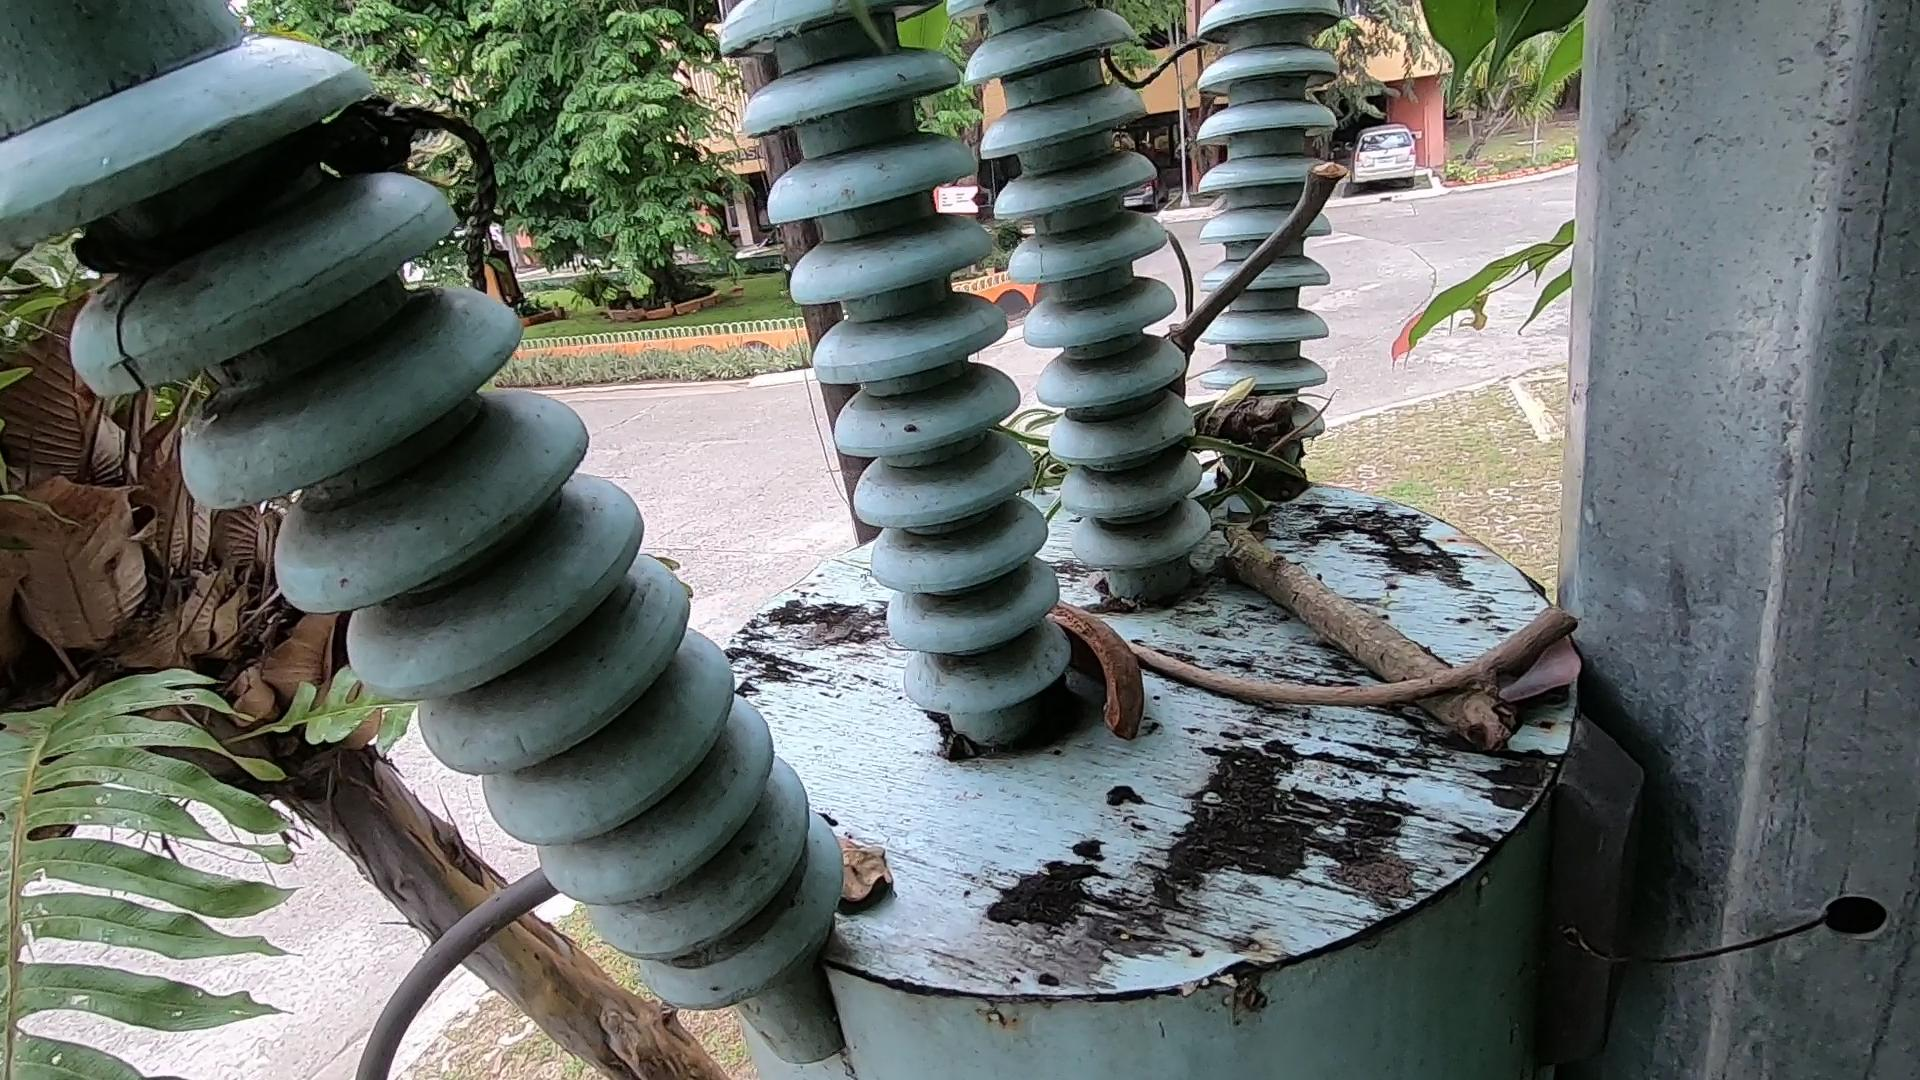branch with leaves: (1133, 378, 1547, 796)
leaf: (1431, 578, 1643, 727), (791, 800, 935, 932)
mahogany fruit: (1029, 585, 1174, 794)
tree branch: (1054, 111, 1399, 401), (1085, 638, 1576, 735)
